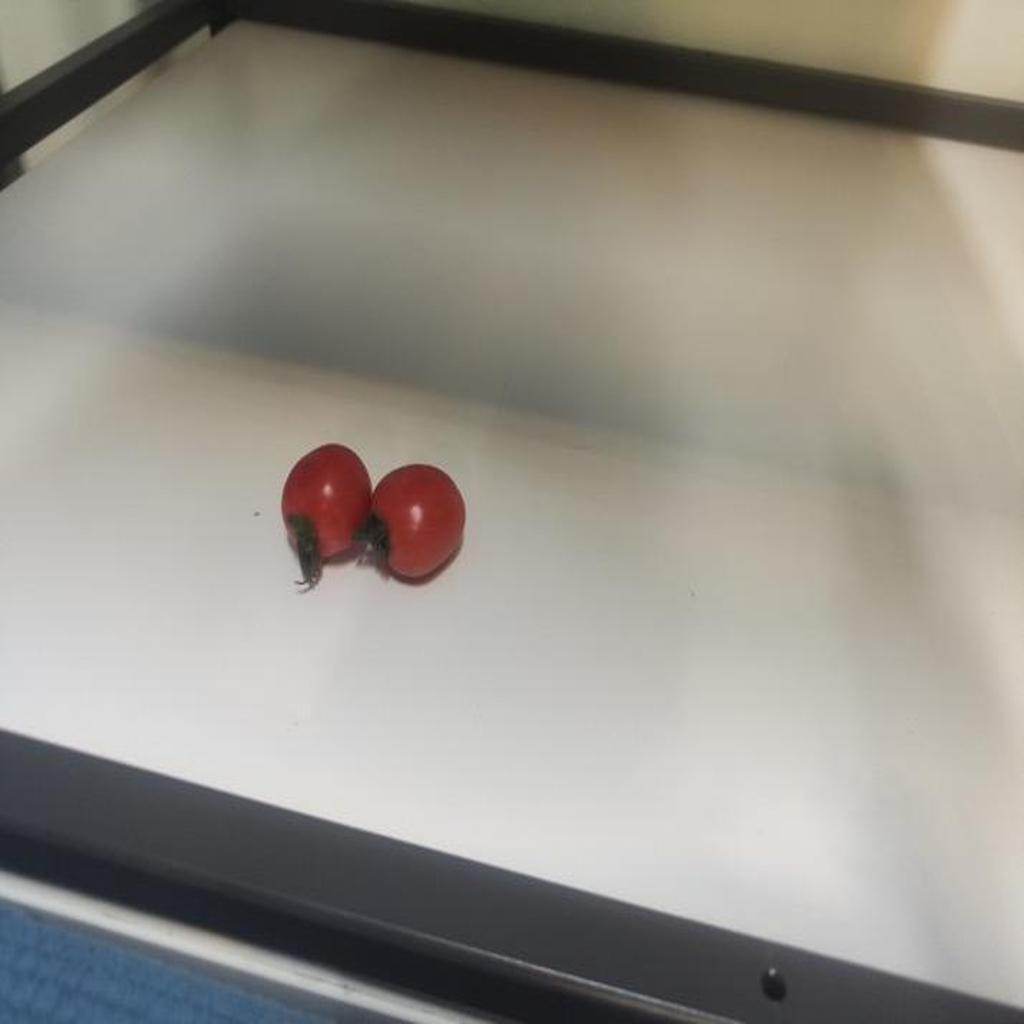tomato: (277, 437, 372, 576), (370, 461, 468, 580)
